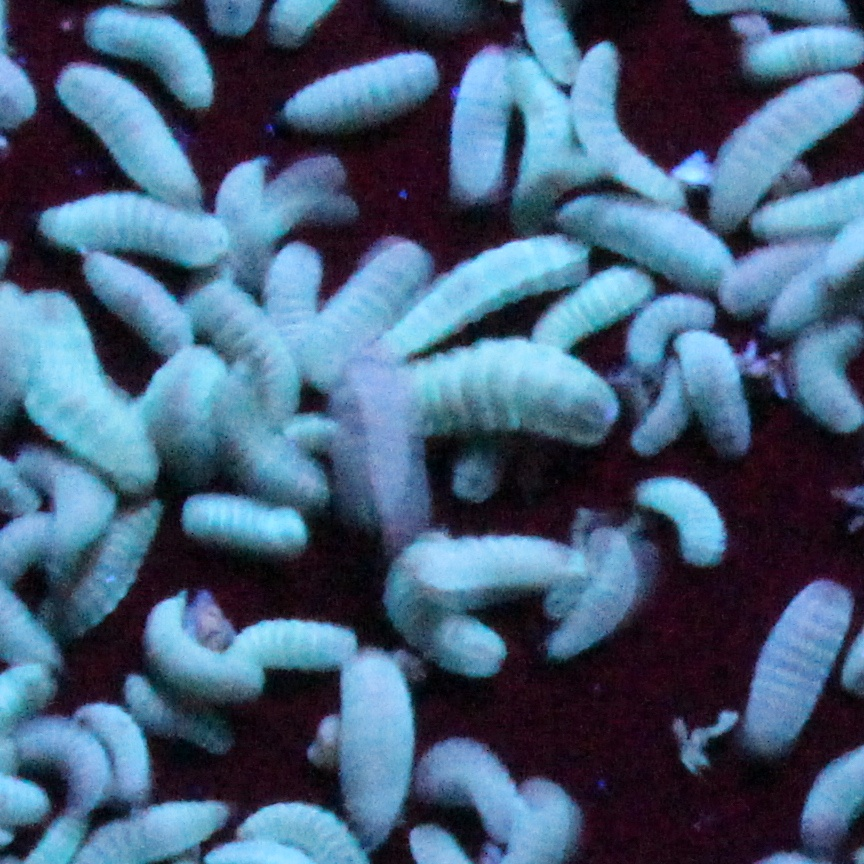larve: (384, 333, 620, 453), (39, 49, 206, 210), (736, 566, 863, 756), (564, 43, 690, 212), (301, 235, 430, 383), (436, 40, 526, 213), (407, 515, 581, 604), (24, 187, 233, 261), (336, 646, 415, 839), (138, 581, 268, 698), (529, 253, 657, 365), (71, 248, 188, 360), (286, 43, 442, 127), (555, 524, 643, 664), (669, 323, 755, 456), (224, 598, 357, 681), (630, 468, 734, 571), (179, 482, 318, 558), (76, 693, 155, 808), (5, 715, 118, 794)
